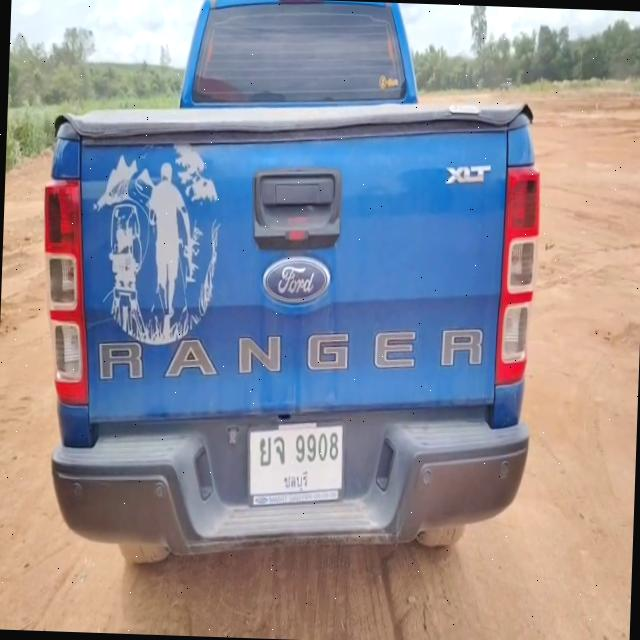Digit: (292, 426, 340, 467)
Licenseplate: (244, 421, 347, 504)
Provincename: (282, 470, 311, 495)
Thaichar: (258, 432, 286, 470)
